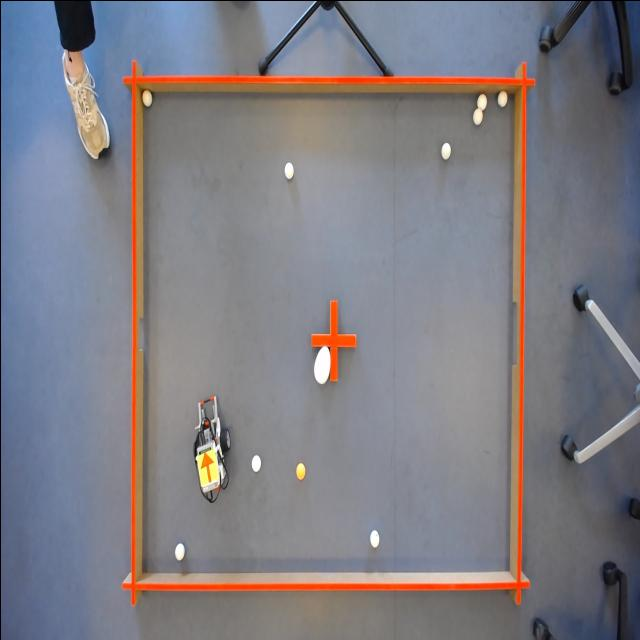cross: (309, 297, 358, 382)
egg: (312, 344, 332, 384)
orange_ball: (294, 458, 306, 482)
robot: (193, 448, 220, 487)
white_ball: (494, 87, 508, 111), (367, 525, 381, 549), (281, 157, 295, 180), (173, 540, 186, 564), (140, 86, 152, 110), (440, 138, 452, 160), (250, 450, 260, 474), (470, 106, 482, 126), (476, 92, 488, 110)
